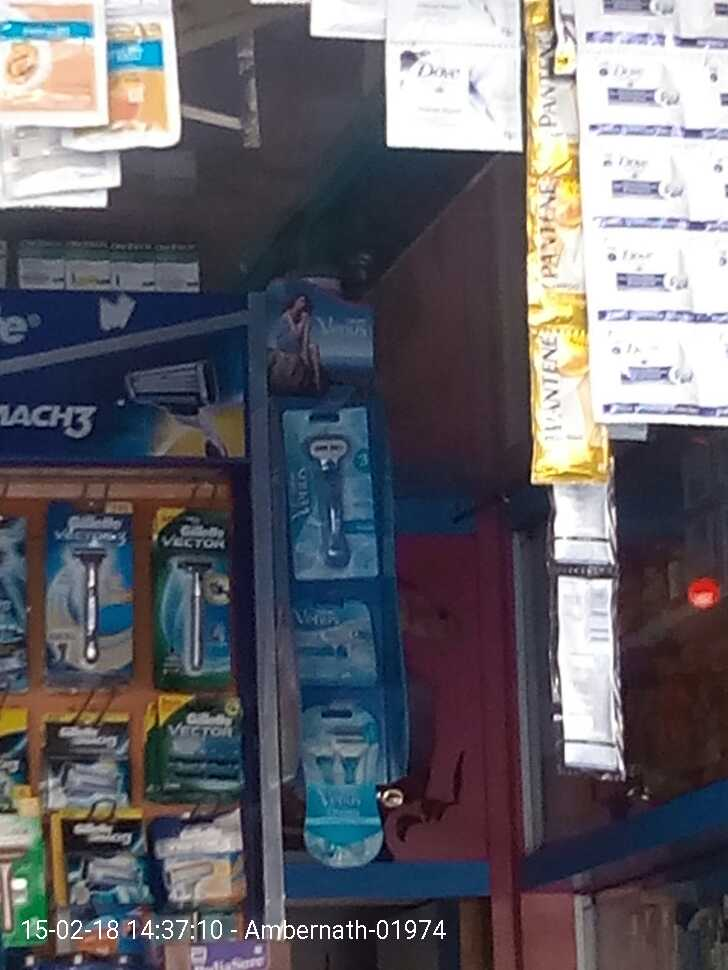beauty: (280, 412, 386, 572), (46, 506, 140, 681), (524, 315, 609, 489), (298, 704, 383, 868), (159, 509, 236, 684), (45, 715, 143, 809), (533, 153, 586, 318), (157, 693, 248, 789), (157, 816, 242, 897), (289, 604, 375, 681), (63, 821, 145, 895)
